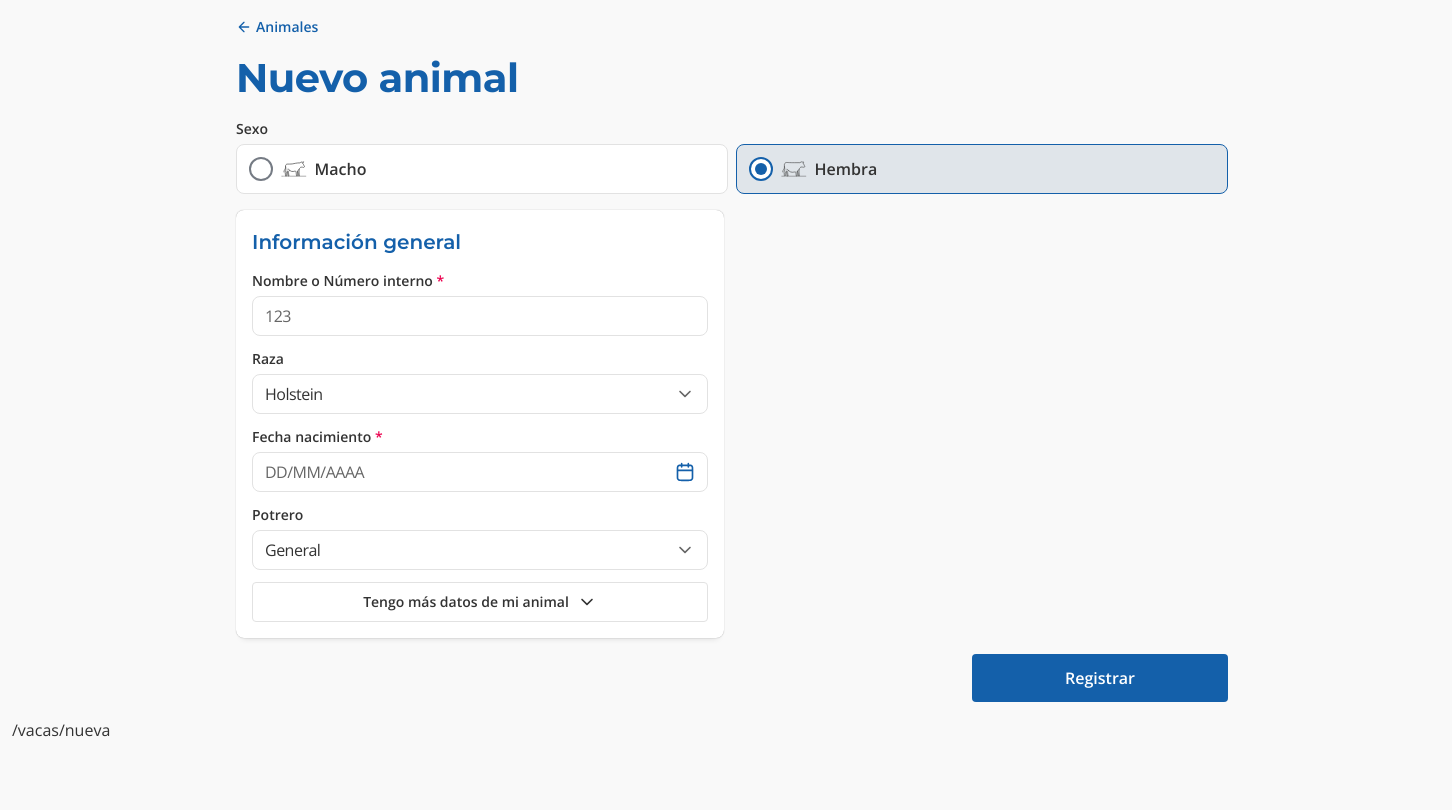
quick registration › offers no AUTO potrero, which picks its own cows
This screenshot has width=1452, height=810.
Click the dropdown named "Potrero". click: [293, 550]
box: [252,530,708,570]
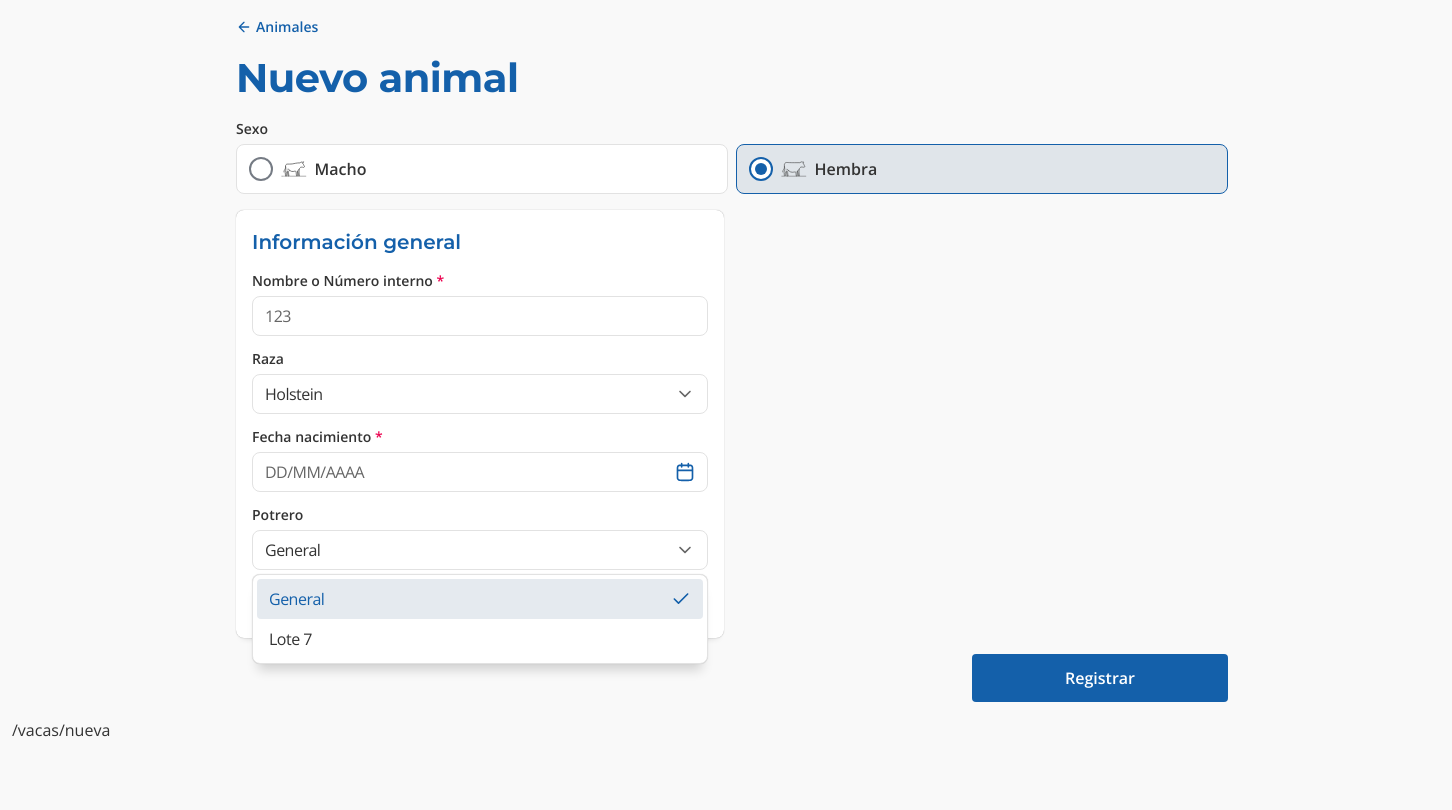
Check: the option "Lote 7" is shown, box [269,628,312,650]
